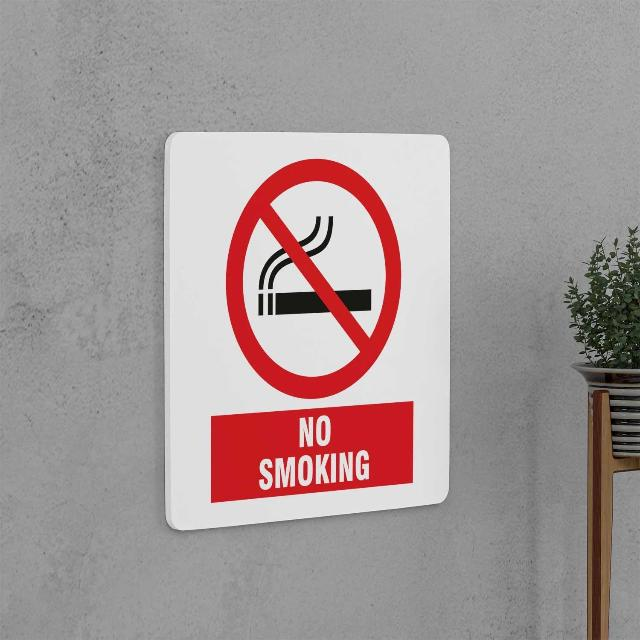cam hut thuoc: (165, 132, 449, 530)
